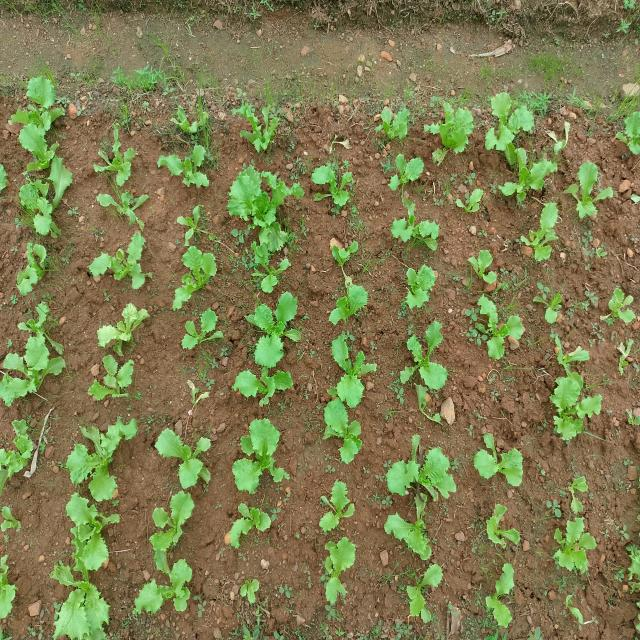Lettuce: (65, 412, 142, 505), (42, 559, 120, 640), (227, 164, 304, 246), (380, 436, 462, 509), (230, 413, 300, 494), (241, 291, 312, 369), (0, 331, 72, 407), (134, 552, 203, 624), (387, 360, 459, 428), (542, 375, 607, 446), (87, 233, 161, 294), (61, 498, 122, 572), (460, 296, 528, 360), (319, 330, 377, 405), (152, 418, 214, 488), (18, 158, 71, 239), (90, 296, 152, 358), (6, 122, 74, 176), (470, 431, 530, 492), (83, 351, 145, 410), (562, 158, 618, 222), (481, 88, 538, 150), (322, 527, 363, 613), (514, 202, 569, 266), (497, 144, 557, 202), (167, 244, 221, 308), (232, 360, 298, 412), (148, 479, 194, 553), (317, 397, 368, 463), (240, 237, 296, 295), (550, 514, 598, 576), (424, 104, 479, 158), (158, 144, 216, 194), (387, 210, 447, 258), (384, 506, 436, 560), (478, 496, 530, 549), (89, 138, 143, 189), (93, 183, 151, 230), (312, 157, 362, 211), (314, 479, 361, 535), (225, 502, 274, 553), (322, 280, 370, 332), (403, 560, 443, 622), (483, 556, 517, 628), (457, 248, 501, 302), (0, 420, 33, 492), (183, 305, 224, 362), (237, 112, 286, 156), (377, 151, 426, 194), (17, 238, 48, 304), (17, 80, 61, 124), (371, 106, 415, 147), (401, 262, 438, 308), (534, 283, 570, 328), (606, 286, 640, 332), (454, 188, 496, 224), (613, 111, 640, 161), (0, 551, 15, 640), (564, 473, 594, 516), (331, 240, 366, 268), (237, 575, 268, 603), (0, 500, 24, 536), (562, 594, 586, 627)
